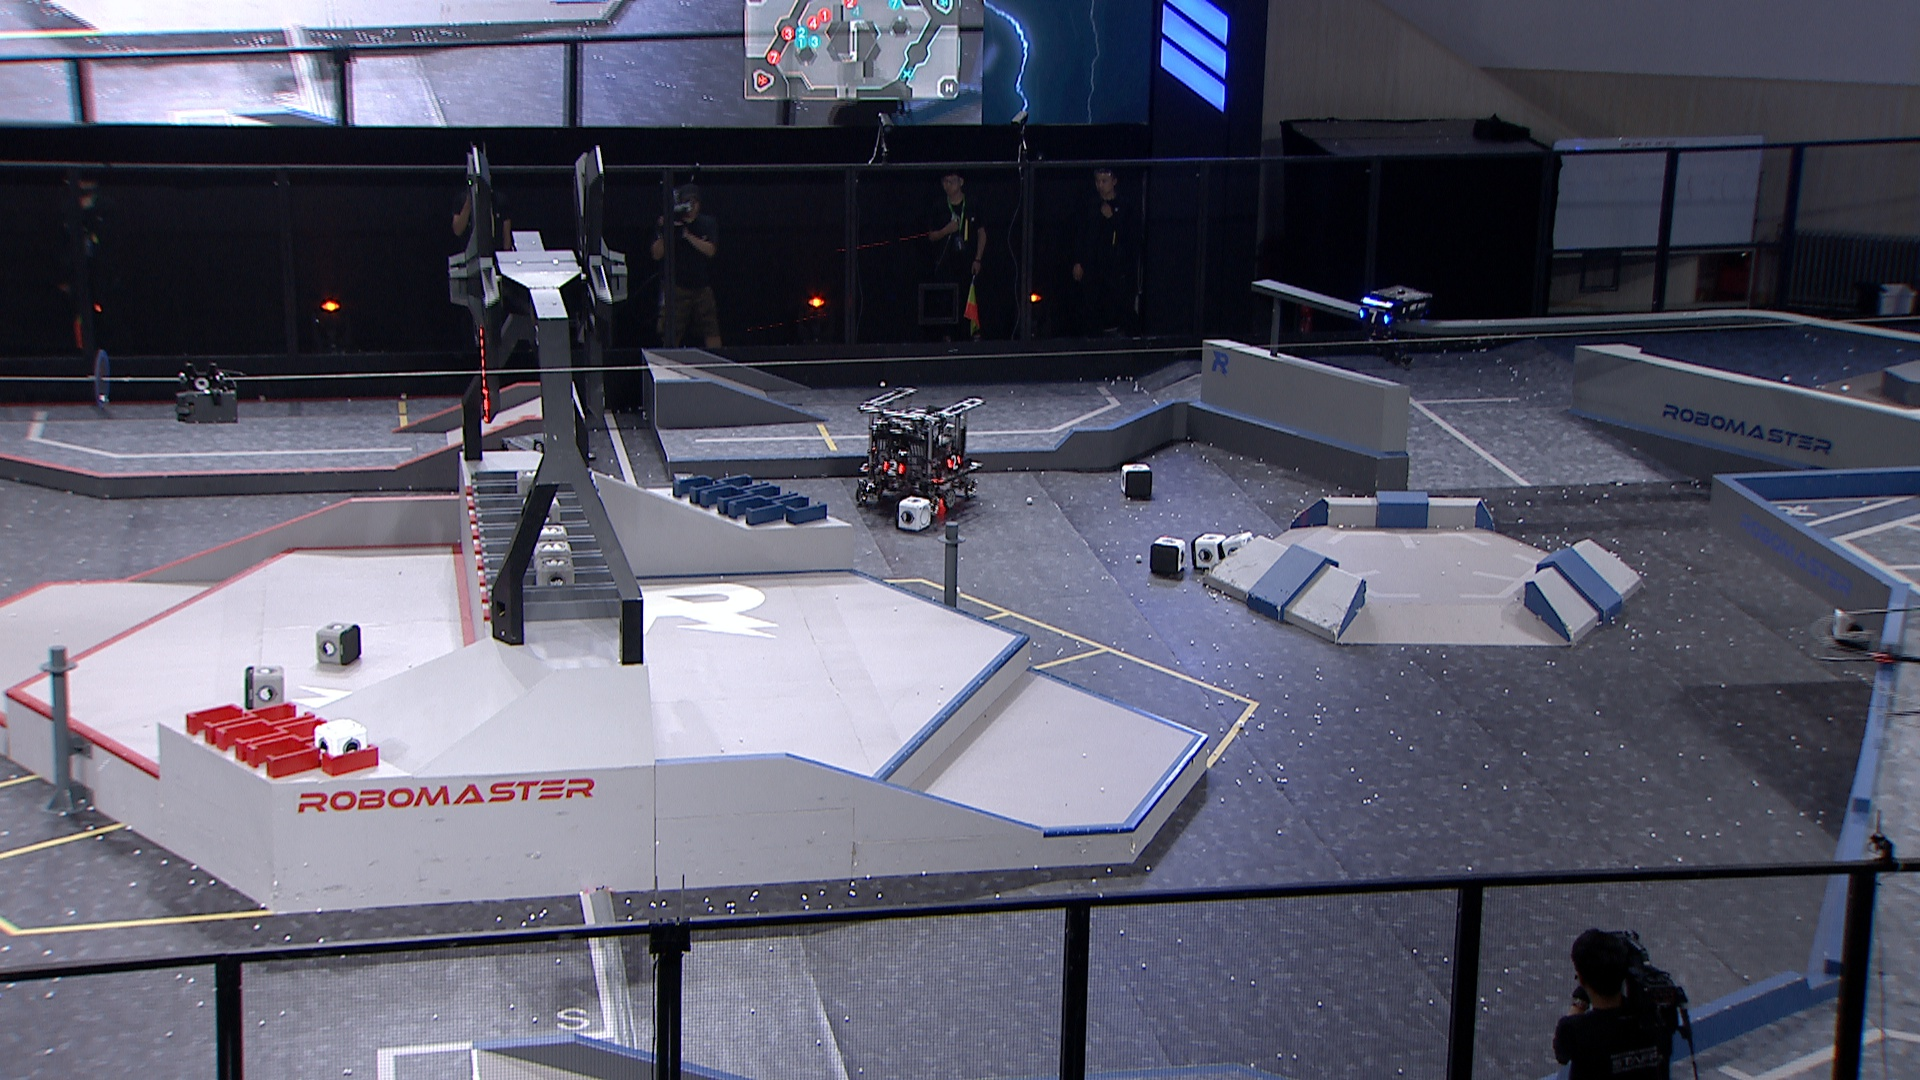armor: (1356, 309, 1391, 324), (882, 460, 906, 479), (944, 452, 963, 472)
car: (855, 386, 984, 518)
watcher: (1352, 285, 1429, 368)
